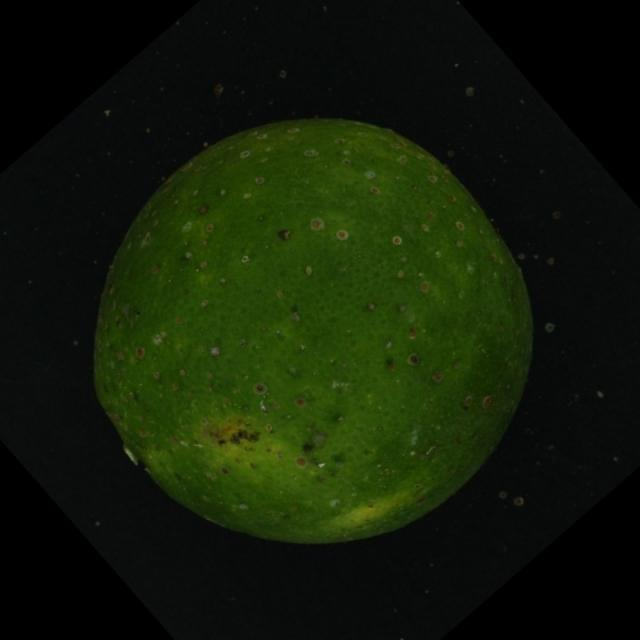grenning: (74, 100, 551, 555)
